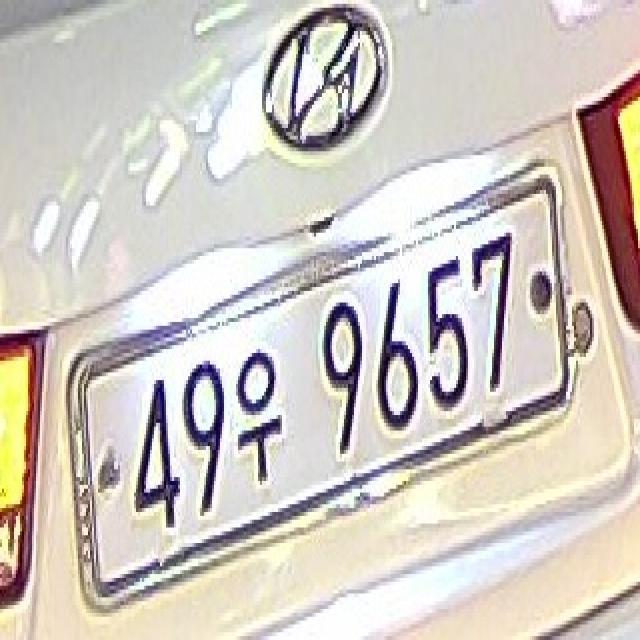4: (136, 376, 182, 531)
5: (427, 248, 470, 420)
6: (373, 273, 418, 437)
7: (473, 225, 518, 393)
9: (319, 299, 364, 459), (185, 350, 222, 518)
license_plate: (59, 154, 577, 627)
u: (236, 332, 282, 492)
